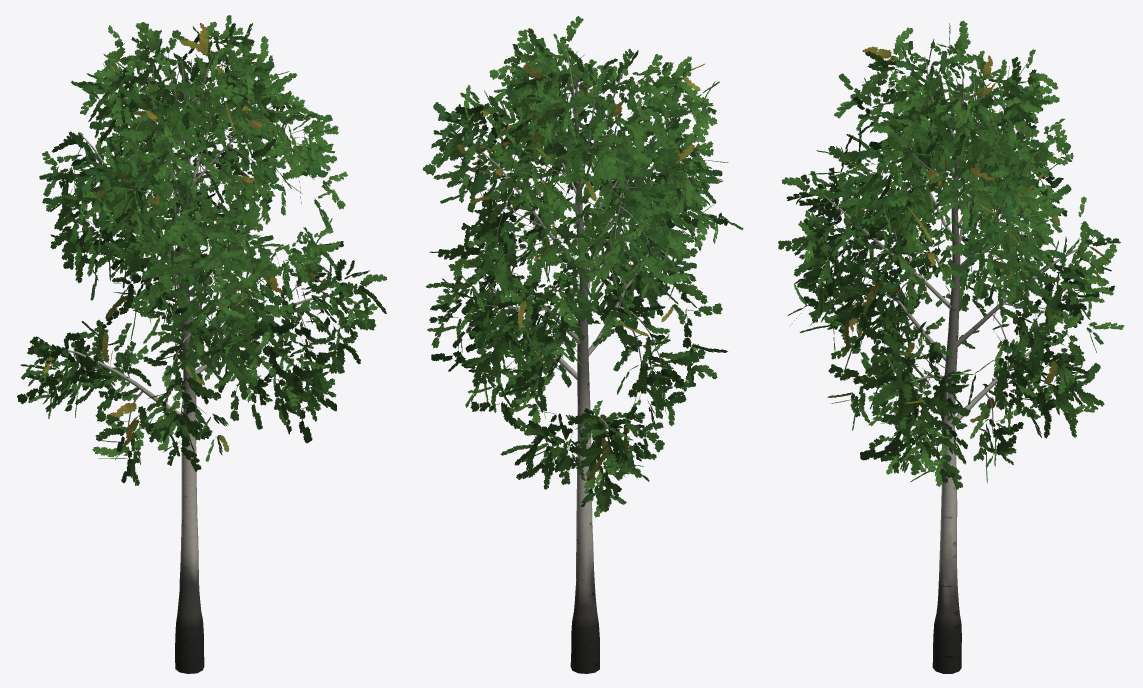
Rendered from hero-birch-near.glb.
The picture shows the model from 3 angles, left to right: view 1: azimuth 30°, elevation 25°; view 2: azimuth 150°, elevation 25°; view 3: azimuth 270°, elevation 25°; orthographic projection. The views are drawn at different scales.
Parts seen in each view (by area): view 1: Foliage, Wood; view 2: Foliage, Wood; view 3: Foliage, Wood.
Boxes of the visible parts, x1,y1,x2,y2 form: Foliage: (17,15,387,485); Wood: (61,52,336,673); Foliage: (422,16,743,517); Wood: (479,53,680,673); Foliage: (778,20,1124,489); Wood: (824,56,1087,673).
Bounding box in the file's own units: 9.36 × 17.98 × 9.37.
Materials: 2 (2 with a texture image).
